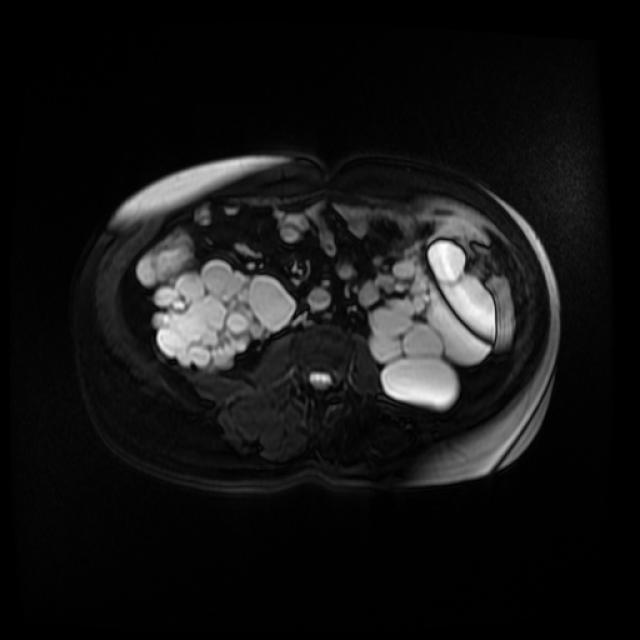sag: (151, 258, 295, 371)
sol: (358, 237, 499, 410)
